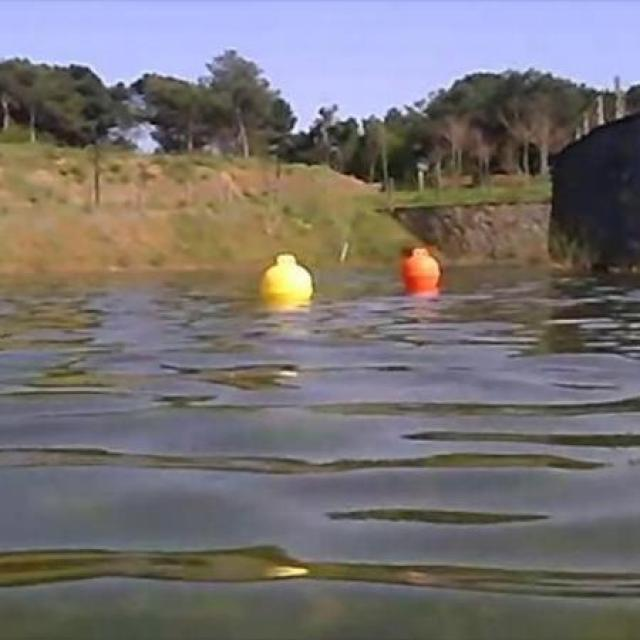buoy: (260, 255, 314, 300), (400, 246, 440, 290)
